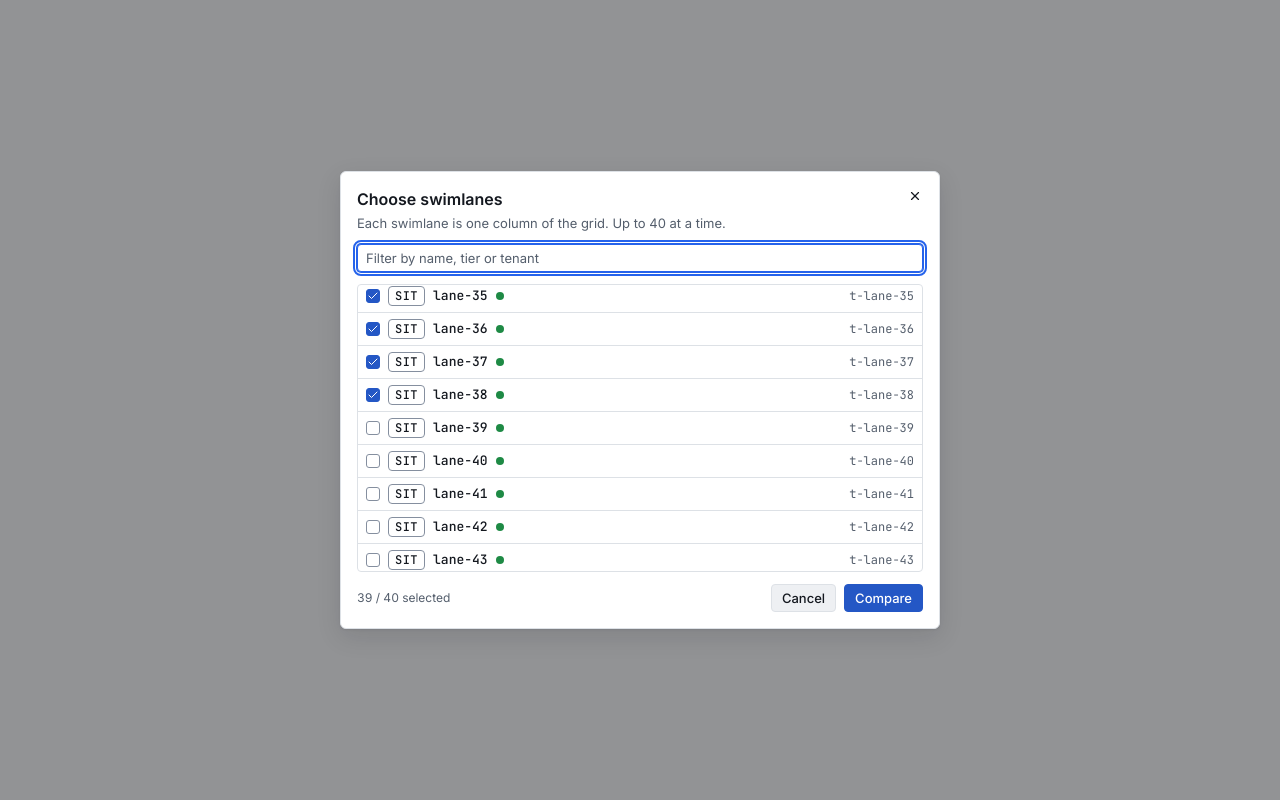
Scenario: choosing swimlanes › stops at the limit and says so: the rest cannot be ticked
(page scrolled)
Click the checkbox named "lane-39" at [373, 428], box [366, 421, 380, 435]
(page scrolled)
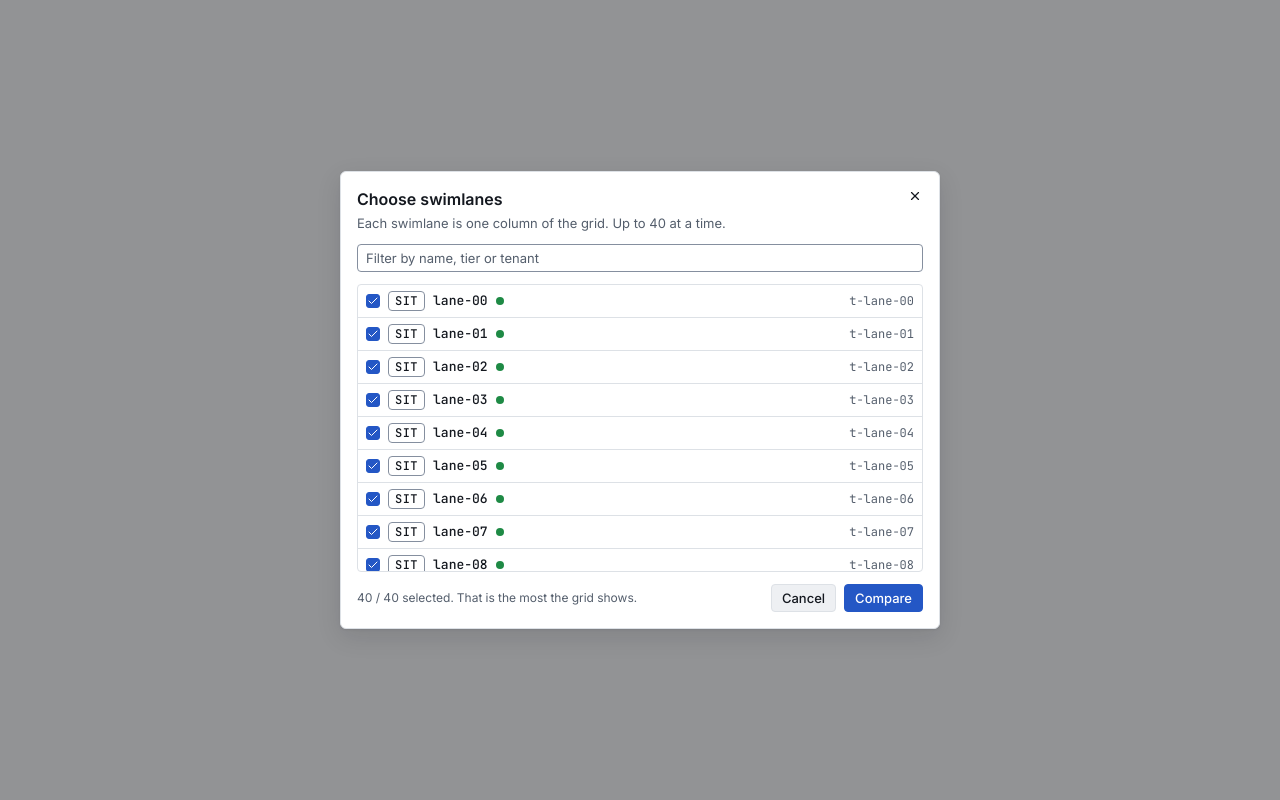
expect the checkbox named "lane-00" is enabled: met, box [366, 294, 380, 308]
expect the text "40 / 40 selected. That is the most the grid shows." is shown: met, box [357, 590, 637, 606]
